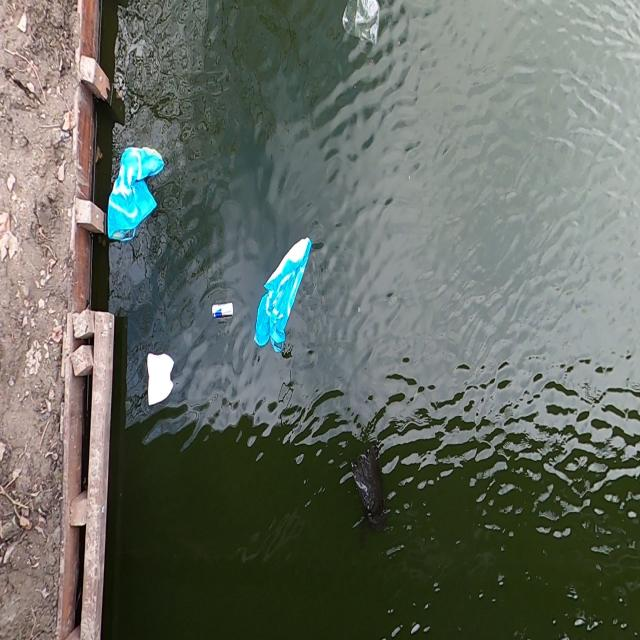Autre plastique: (142, 348, 176, 411)
Non plastique: (207, 301, 235, 331)
Sac plastique: (252, 233, 317, 355), (105, 145, 172, 250), (346, 433, 391, 535), (340, 0, 384, 48)
